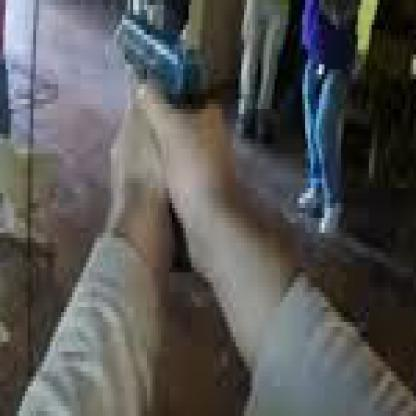gun: (108, 0, 205, 292)
